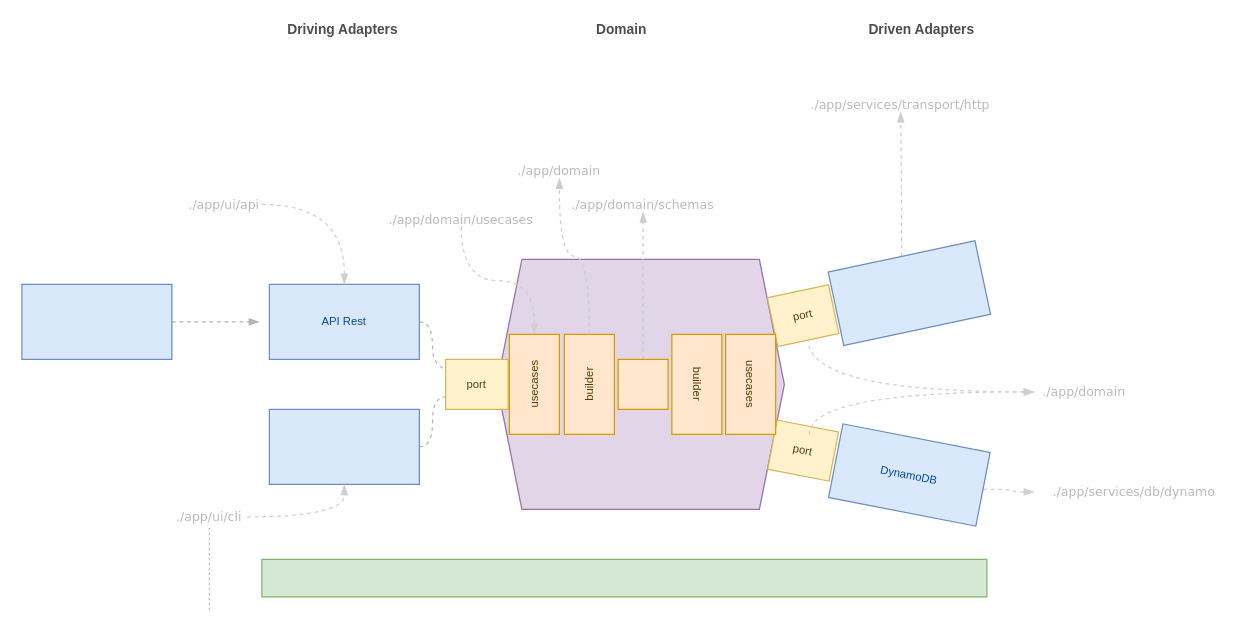
Image size: 1256x634. Some labels were removed from this diagram. The box of each missing label's shape, as (x1, y1, x2, y2) in pixels:
CLI: (268, 408, 419, 484)
Composition Root (Bootstrap): (261, 558, 987, 597)
entities: (617, 358, 668, 409)
HTTP Client: (827, 240, 991, 346)
Web App: (21, 283, 172, 359)
